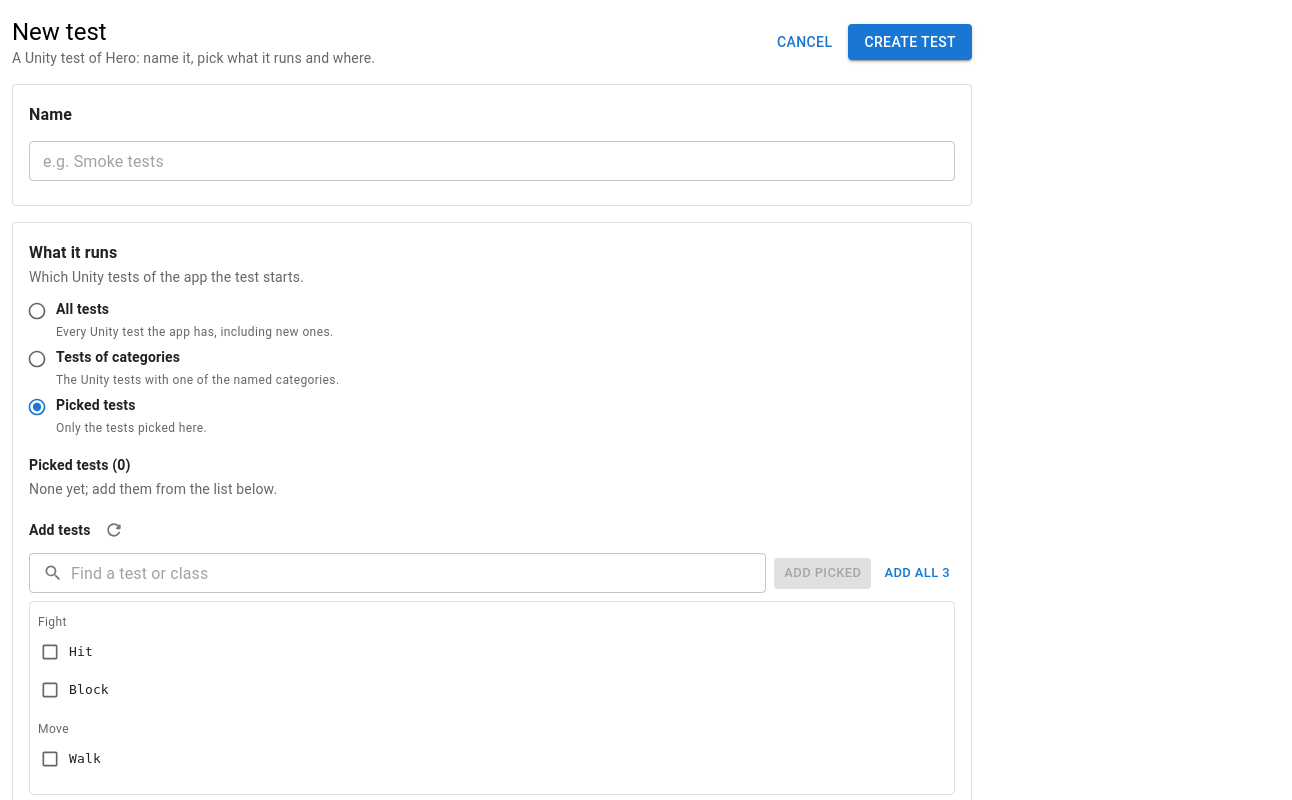
TestPicker with the Unity editor › adds all tests Unity reported
Earlier steps of the test are not shown.
Click the button "Add all 3" at (917, 573), box [879,558,955,589]
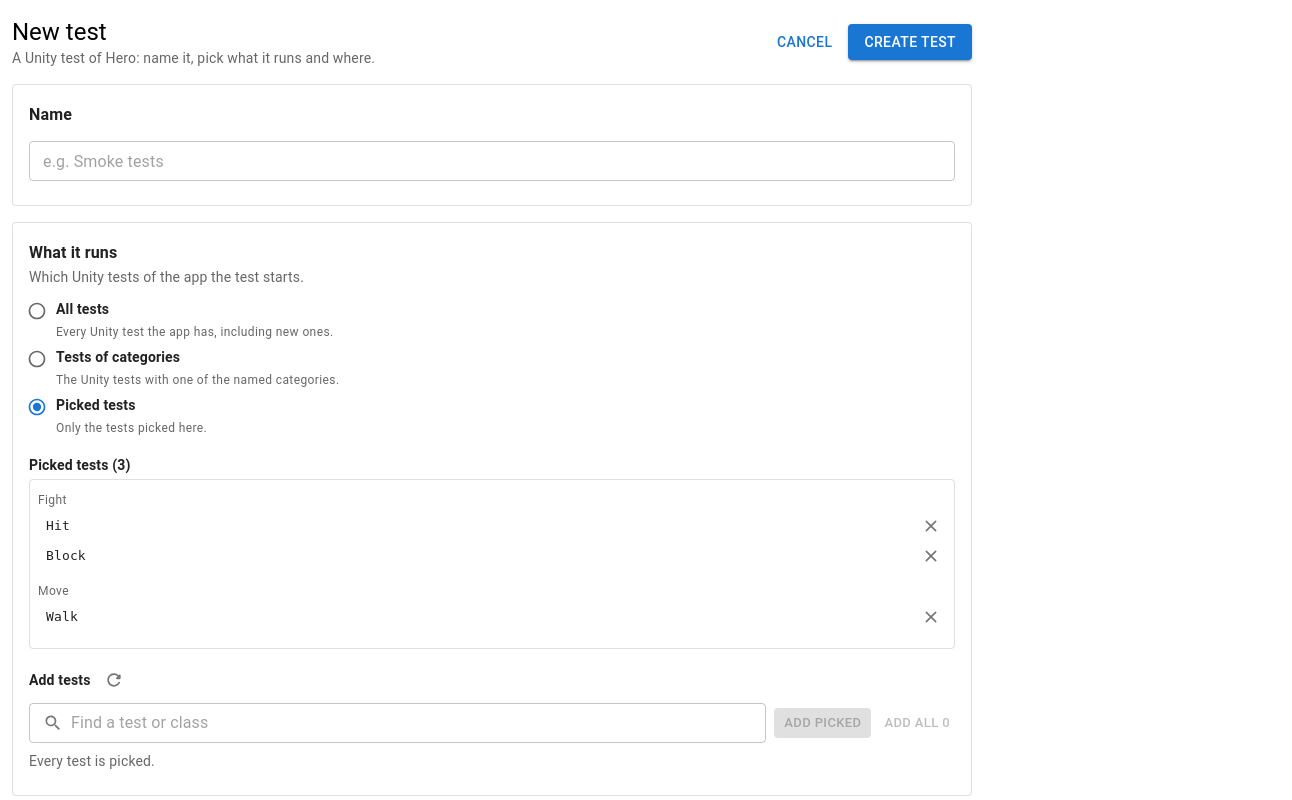
Expected: the text "Picked tests (3)" is shown, [29,457,131,473]
Expected: the text "Every test is picked." is shown, [29,753,155,769]
